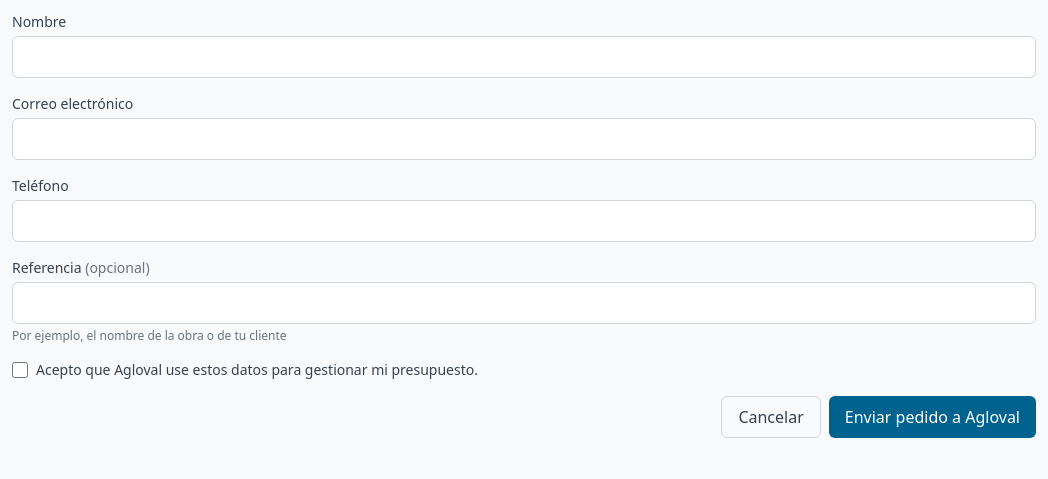
Scenario: CustomerDetailsForm › rejects a phone with letters
The width and height of the screenshot is (1048, 479).
Type "Lucía Ferrer" into the field labelled "Nombre" at (524, 57), box [12,36,1036,78]
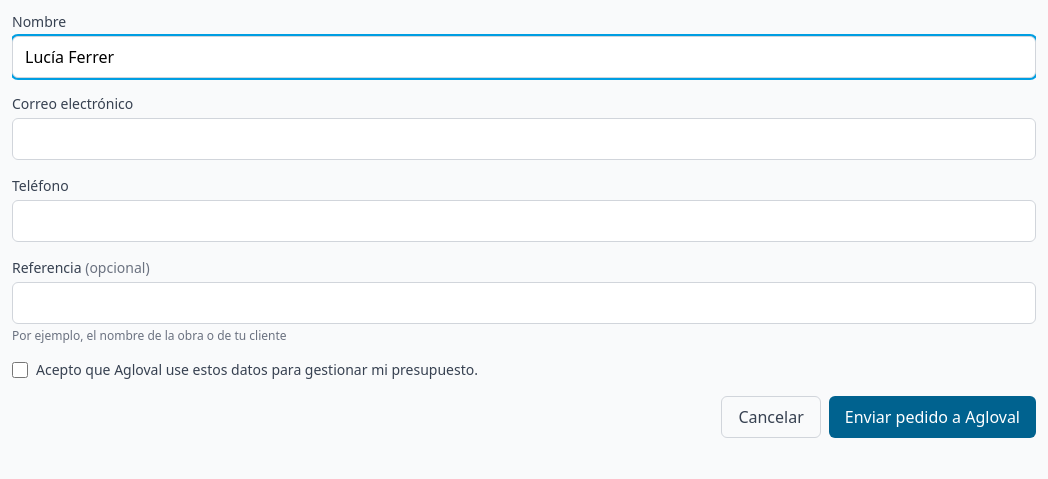
Type "lucia@example.com" into the field labelled "Correo electrónico" at (524, 139), box [12,118,1036,160]
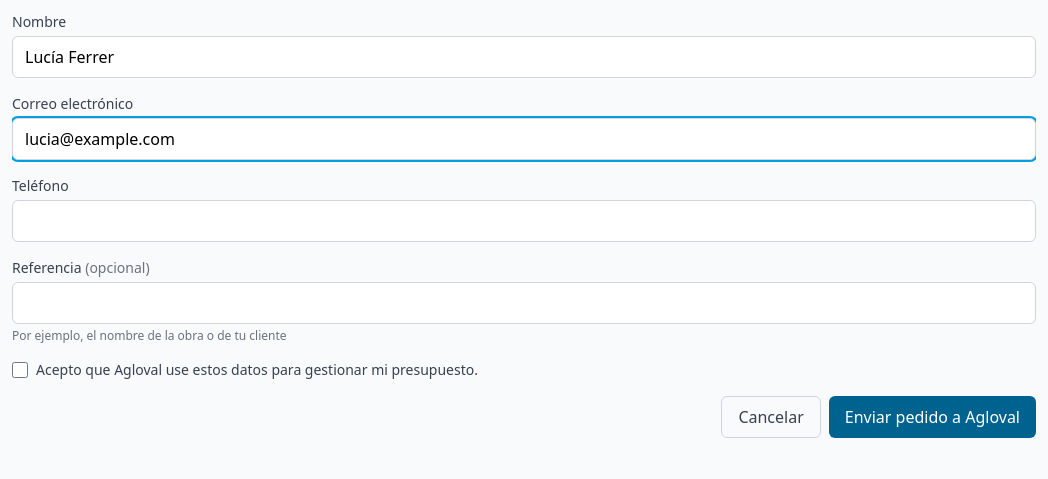
Type "600 12a 456" into the field labelled "Teléfono" at (524, 221), box [12,200,1036,242]
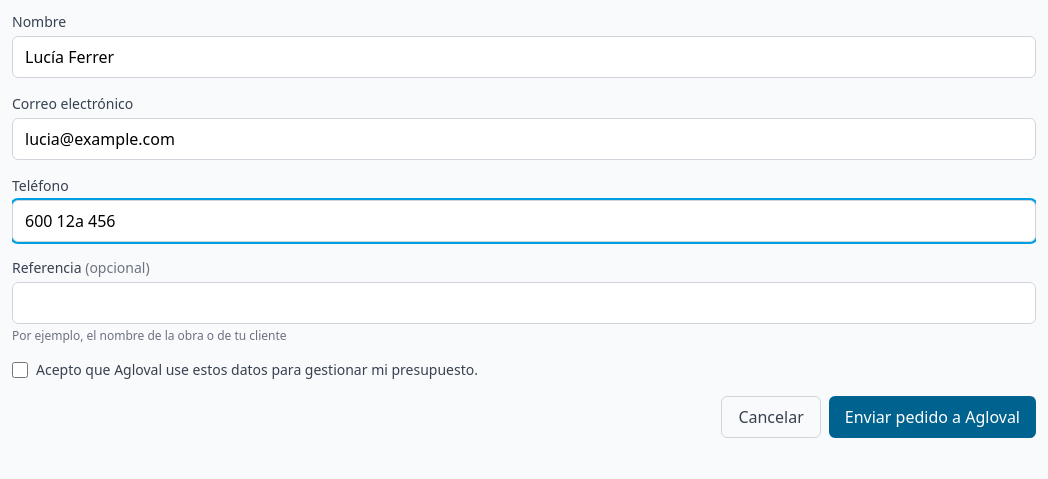
Click the checkbox labelled "Acepto que Agloval use estos datos para gestionar mi presupuesto." at (20, 370), box [12,362,28,378]
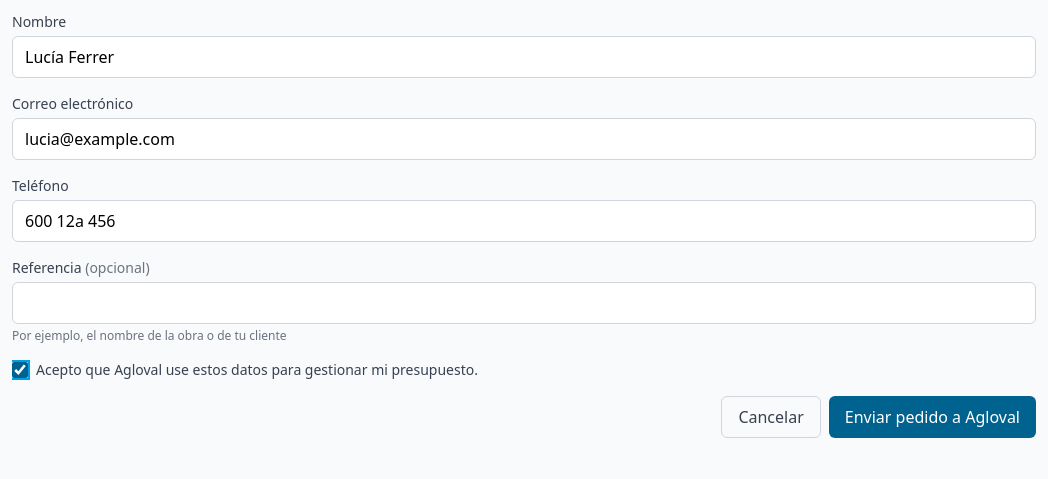
Click the button "Enviar pedido a Agloval" at (932, 417), box [829,396,1036,438]
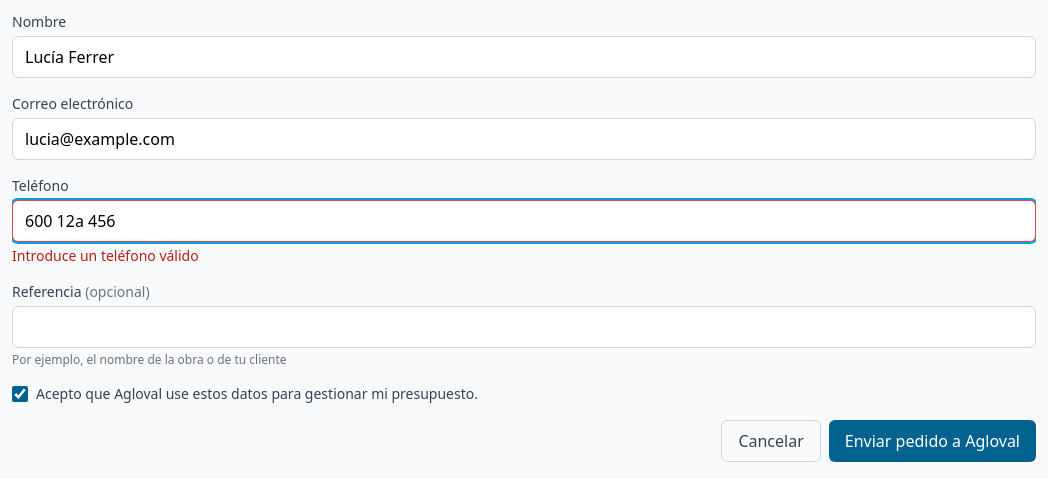
expect the text "Introduce un teléfono válido" is shown: met, box [12,246,199,265]
